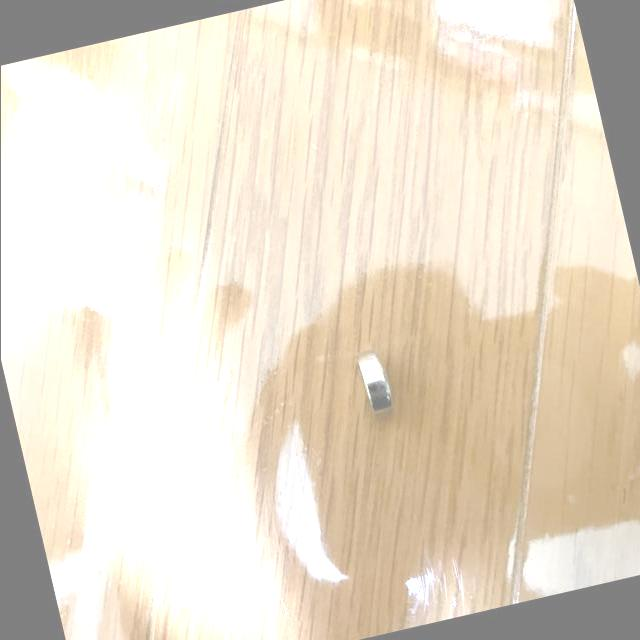COIN: (355, 344, 396, 414)
